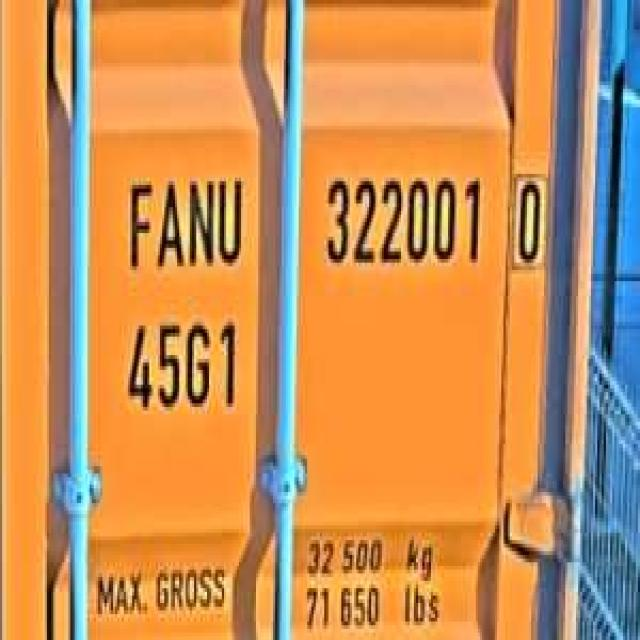dv: (506, 155, 550, 274)
owner: (118, 163, 248, 277)
serial: (318, 163, 486, 277)
size: (120, 307, 243, 422)
